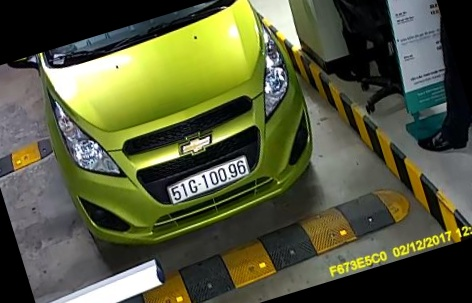plate: (164, 156, 257, 207)
